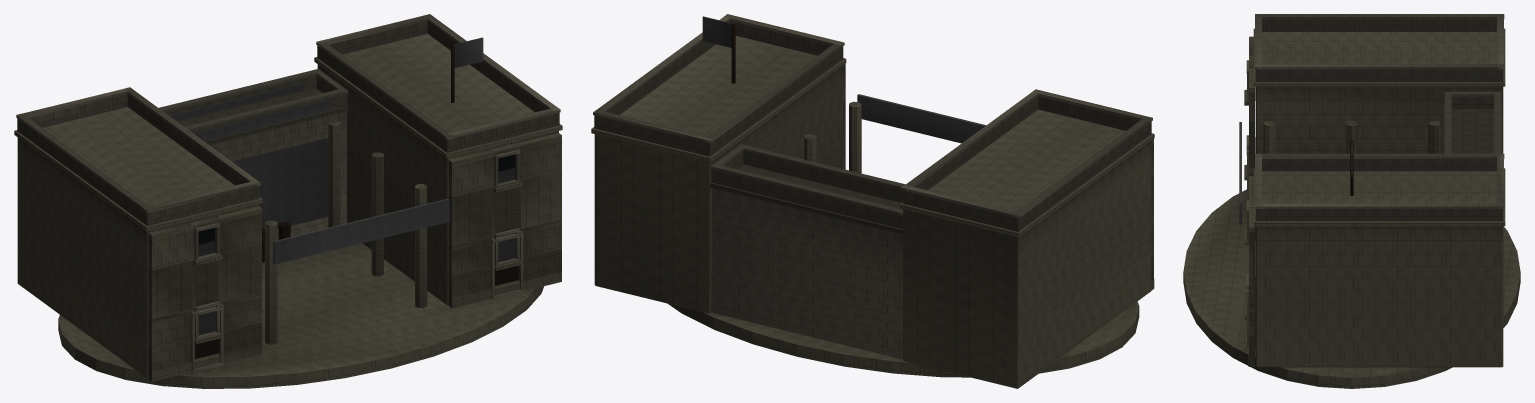
The model's file is library-israelite.glb.
The picture shows the model from 3 angles, left to right: view 1: azimuth 30°, elevation 25°; view 2: azimuth 150°, elevation 25°; view 3: azimuth 270°, elevation 25°; orthographic projection. The views are drawn at different scales.
Parts seen in each view (by area): view 1: LOD0; view 2: LOD0; view 3: LOD0.
Part boxes in pixels (bbox=[...]): LOD0: bbox=[14, 14, 562, 388]; LOD0: bbox=[591, 14, 1154, 388]; LOD0: bbox=[1183, 14, 1520, 388].
Size of what is drawn, in the model's own units: 1.82 by 0.85 by 1.23.
2 materials, 2 textured.
